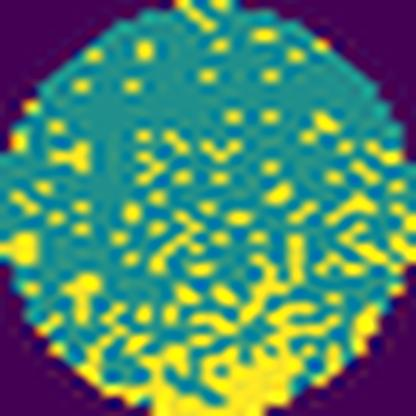Edge-Loc: (72, 250, 346, 415), (341, 301, 393, 362), (0, 223, 47, 270)
